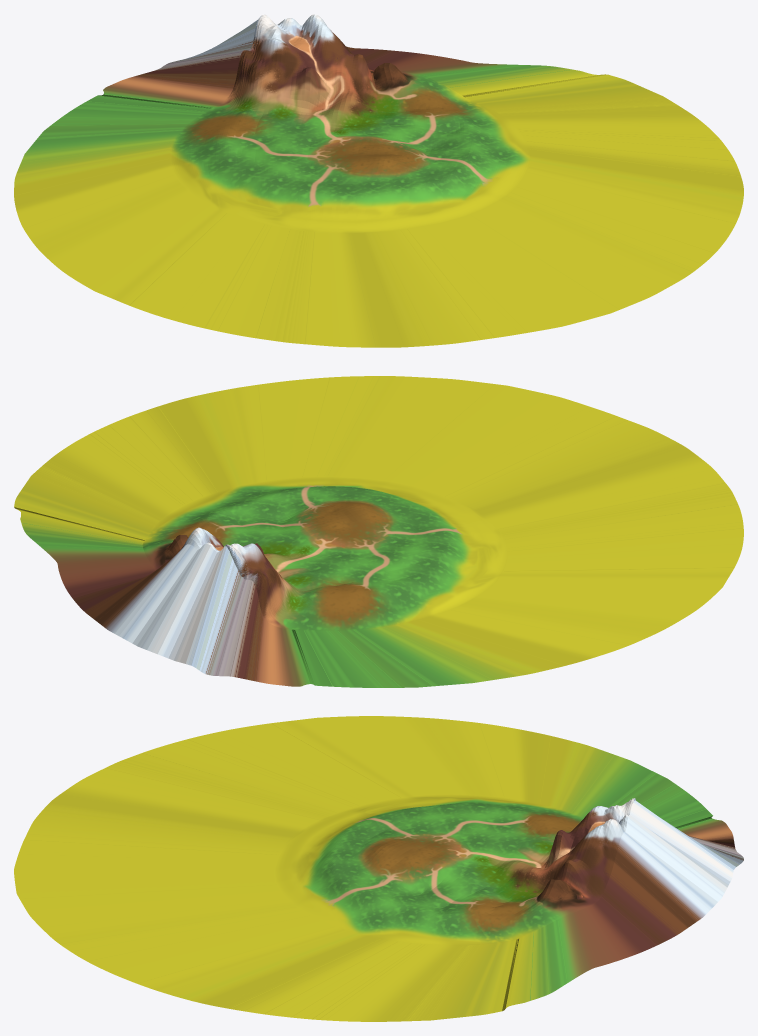
Rendered from Island.fbx.
3 views of the same model, one above another, from view 1: azimuth 30°, elevation 25°; view 2: azimuth 150°, elevation 25°; view 3: azimuth 270°, elevation 25° (orthographic). The views are drawn at different scales.
Parts seen in each view (by area): view 1: Island; view 2: Island; view 3: Island.
Boxes of the visible parts, bbox=[...] form: Island: bbox=[14, 14, 743, 347]; Island: bbox=[14, 376, 743, 687]; Island: bbox=[14, 716, 743, 1021].
Bounding box in the file's own units: 40368 × 4834 × 40705.
Materials: 1 (1 with a texture image).
